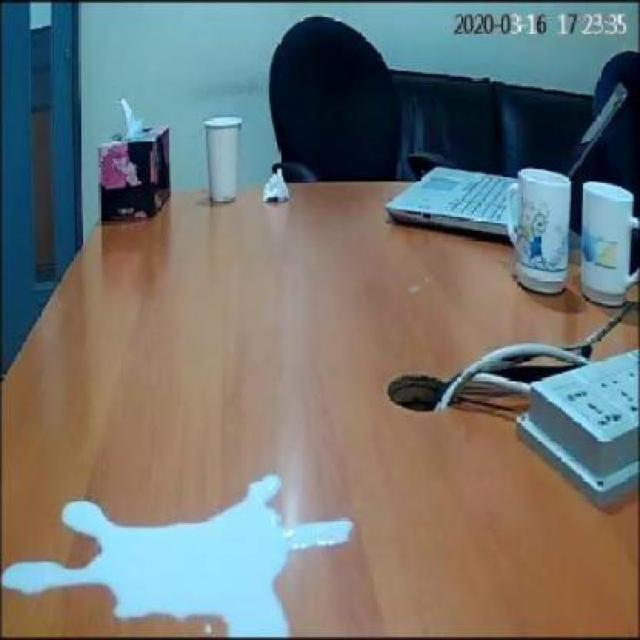spillage: (2, 474, 354, 637)
